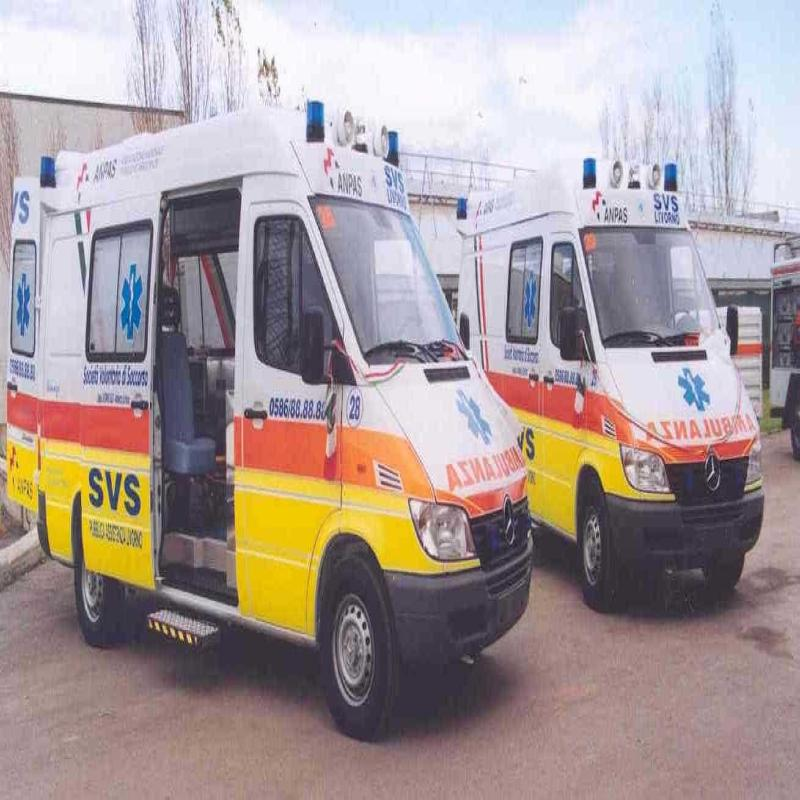AmbulanceSiren: (298, 62, 331, 160), (37, 138, 64, 198), (380, 117, 407, 174), (658, 151, 691, 196), (578, 145, 601, 198)
